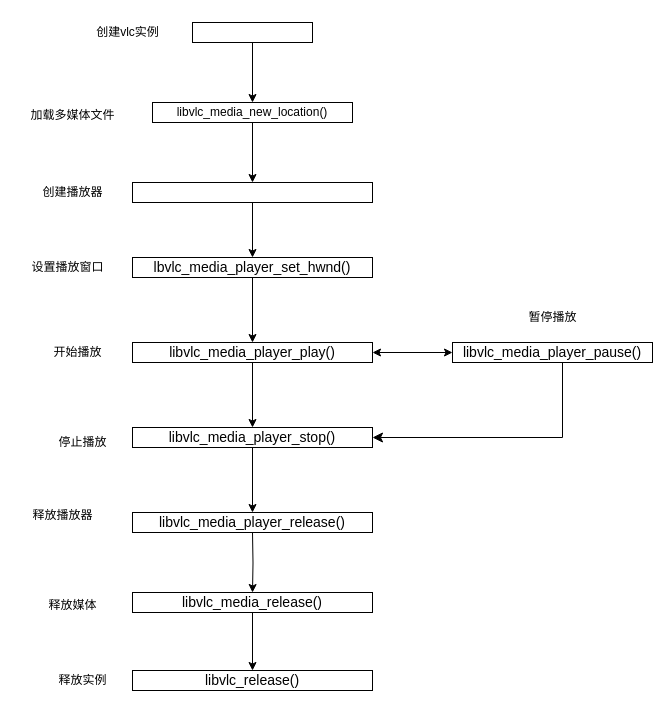
This 670x718 diagram has some shape labels left out. Here are the shapes that lost their labels. From the top down, the centre of each, then its label:
point (252, 32): libvlc_new()
point (252, 192): libvlc_media_player_new_from_media()
